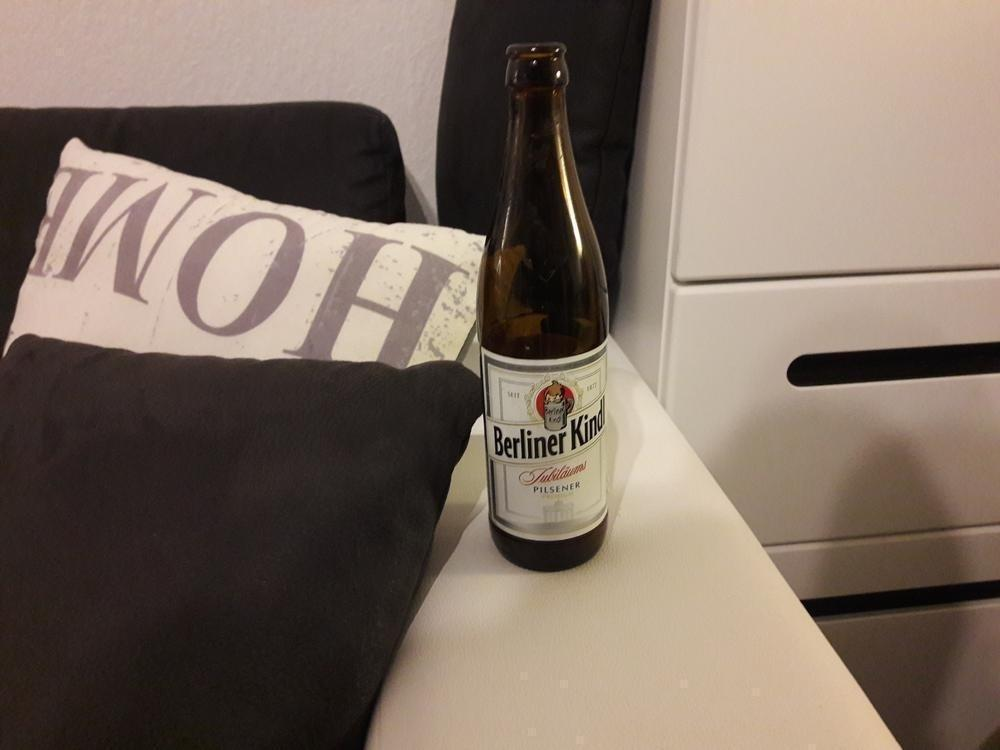bottle-glass: (474, 40, 611, 574)
